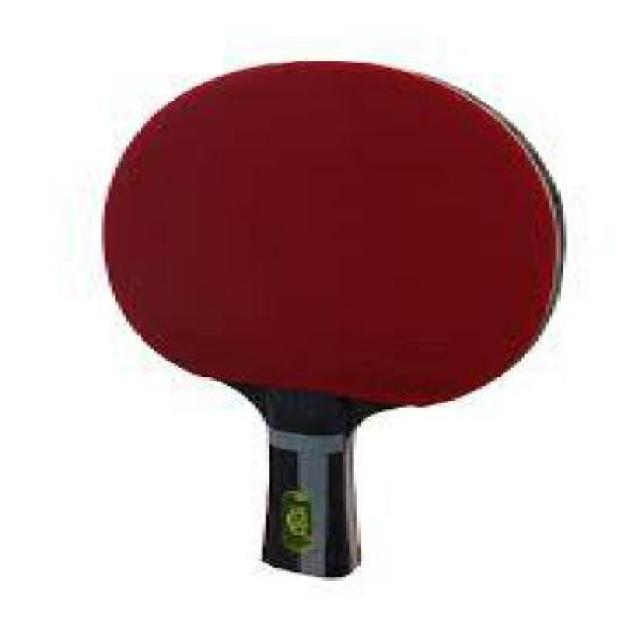table_tennis_racket: (94, 59, 577, 412)
